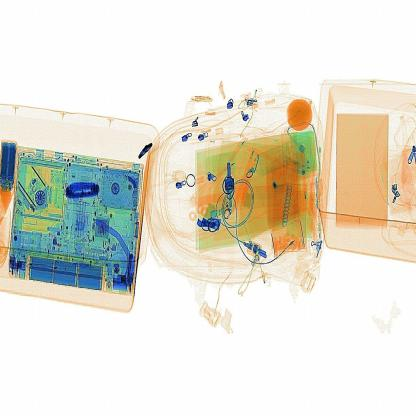scissors: (57, 174, 108, 210)
